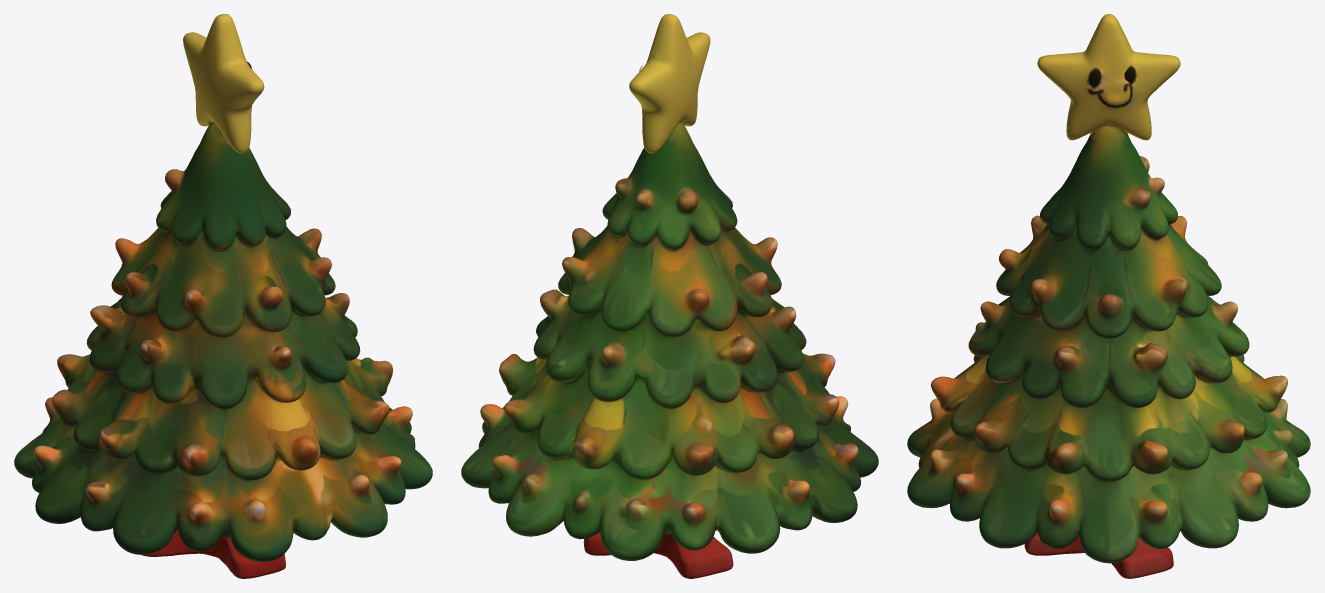
The model's file is christmas tree1.glb.
3 views of the same model, side by side, from view 1: azimuth 30°, elevation 25°; view 2: azimuth 150°, elevation 25°; view 3: azimuth 270°, elevation 25° (orthographic).
Parts seen in each view (by area): view 1: tripo_node_d97a081e-797a-4d42-a4cf-e587e2d09ce2; view 2: tripo_node_d97a081e-797a-4d42-a4cf-e587e2d09ce2; view 3: tripo_node_d97a081e-797a-4d42-a4cf-e587e2d09ce2.
Part boxes in pixels (<box>): tripo_node_d97a081e-797a-4d42-a4cf-e587e2d09ce2: <box>14,14,432,578</box>; tripo_node_d97a081e-797a-4d42-a4cf-e587e2d09ce2: <box>461,14,878,578</box>; tripo_node_d97a081e-797a-4d42-a4cf-e587e2d09ce2: <box>907,14,1310,578</box>.
Bounding box in the file's own units: 0.6879 × 0.9491 × 0.6523.
Materials: 1 (1 with a texture image).
